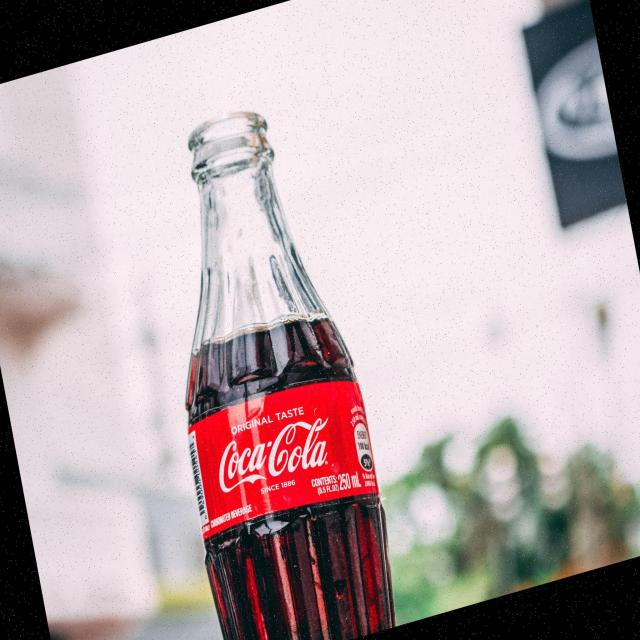coca-cola: (210, 409, 336, 498)
